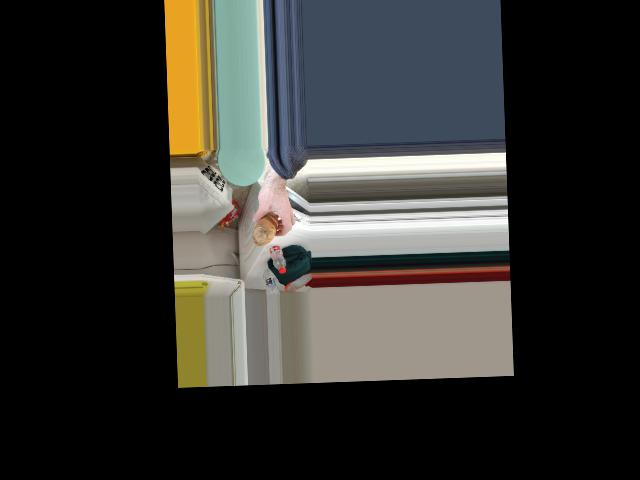sweet_potato: (251, 210, 280, 245)
